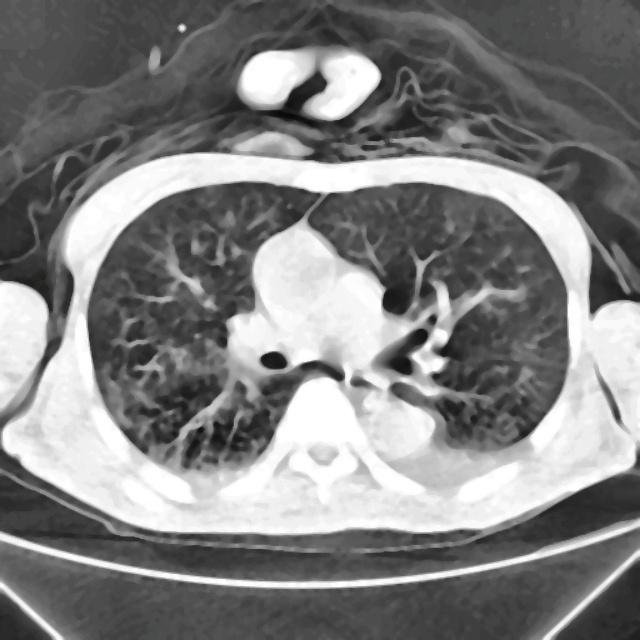covid: (1, 148, 638, 543)
